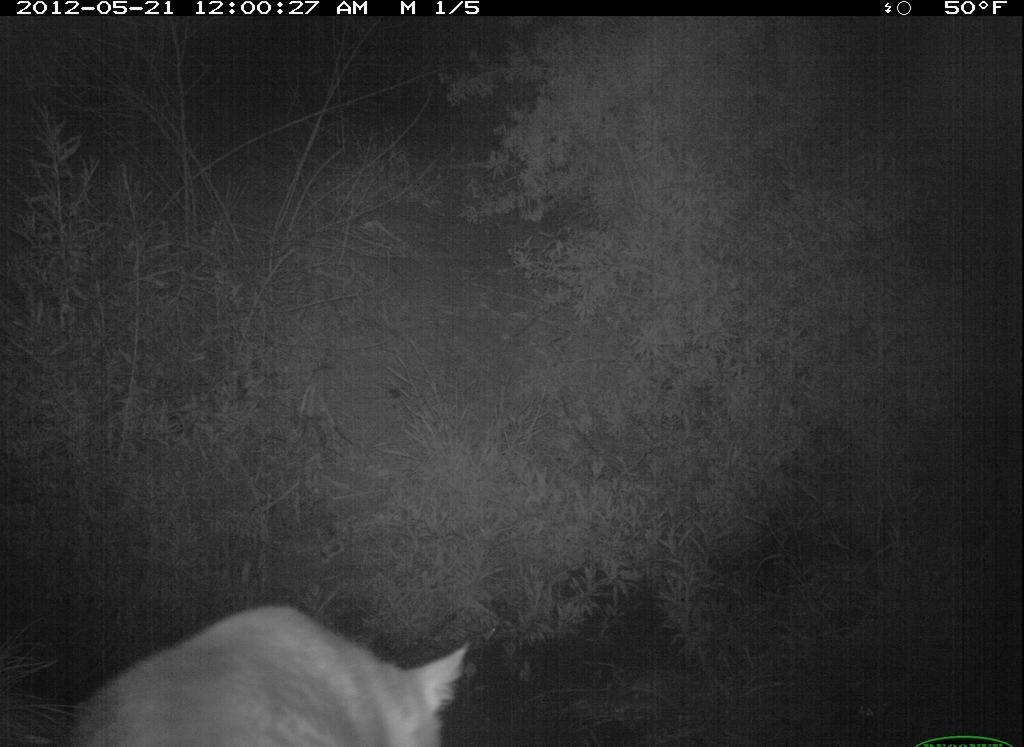cat: (86, 602, 470, 747)
